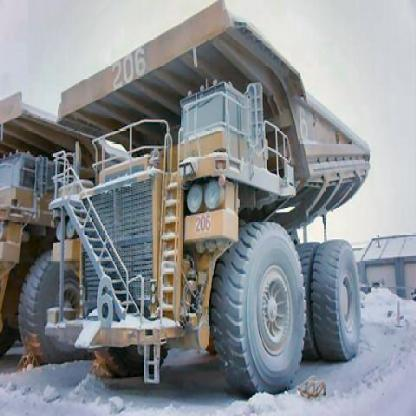dump_truck: (50, 3, 361, 396)
